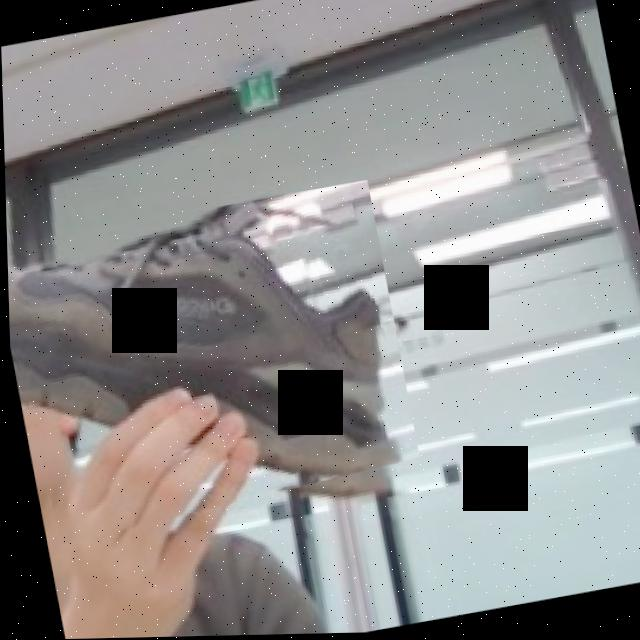shoe: (4, 181, 422, 548)
